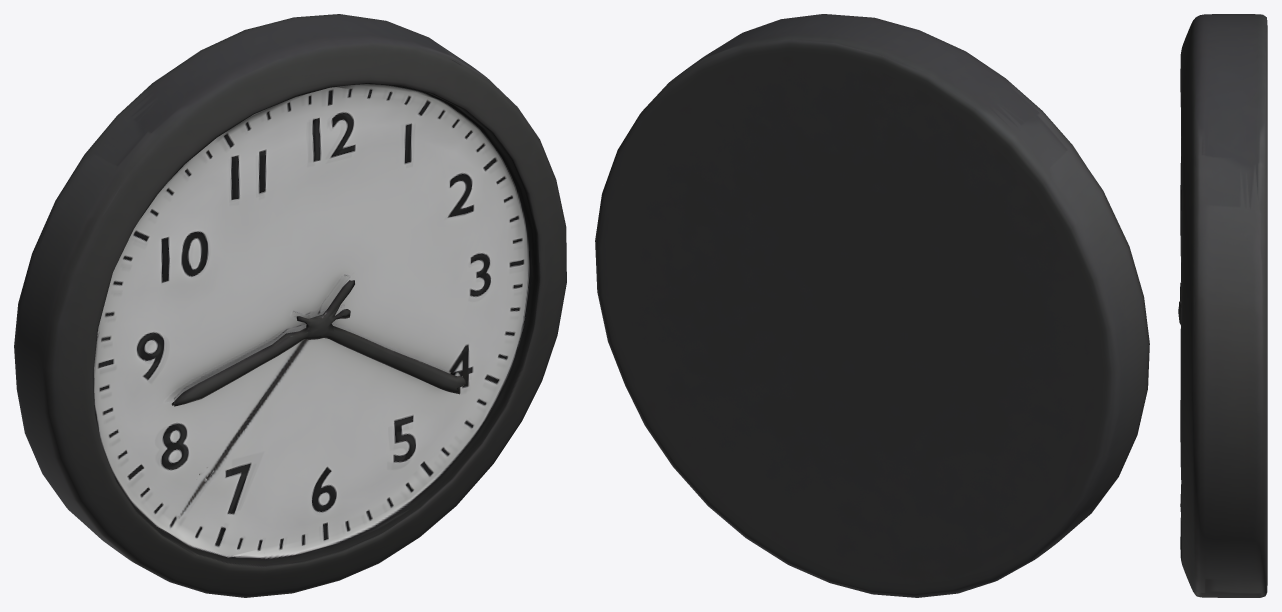
The model's file is Meshy_AI_Saat_0114124934_texture.fbx.
The picture shows the model from 3 angles, left to right: view 1: azimuth 30°, elevation 25°; view 2: azimuth 150°, elevation 25°; view 3: azimuth 270°, elevation 25°; orthographic projection. The views are drawn at different scales.
Visible parts, largest first — view 1: Mesh0; view 2: Mesh0; view 3: Mesh0.
Boxes of the visible parts, box(x1,y1,x2,y2) form: Mesh0: box(14, 14, 566, 597); Mesh0: box(595, 14, 1149, 597); Mesh0: box(1178, 14, 1267, 597).
Bounding box in the file's own units: 190 × 190 × 29.07.
1 material, 1 textured.
